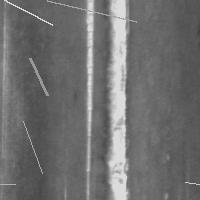scratches: (104, 1, 131, 199), (42, 0, 141, 26), (84, 1, 95, 199), (18, 116, 47, 178), (0, 0, 57, 30), (25, 53, 52, 100), (180, 177, 200, 200), (0, 178, 20, 189)
